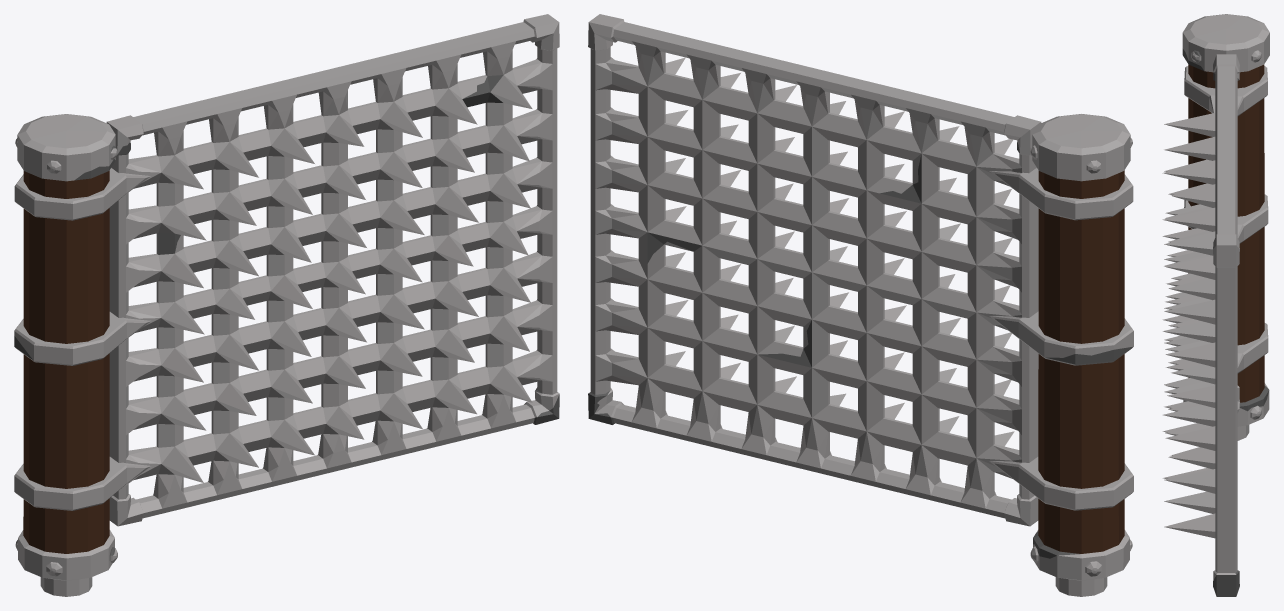
File: LGEMetalSpinningGate.fbx
The picture shows the model from 3 angles, left to right: view 1: azimuth 30°, elevation 25°; view 2: azimuth 150°, elevation 25°; view 3: azimuth 270°, elevation 25°; orthographic projection. The views are drawn at different scales.
Visible parts, largest first — view 1: LGEMetalSpinningGate; view 2: LGEMetalSpinningGate; view 3: LGEMetalSpinningGate.
Part boxes in pixels (x1,y1,x2,y2): LGEMetalSpinningGate: (14,14,559,596); LGEMetalSpinningGate: (588,14,1133,596); LGEMetalSpinningGate: (1162,14,1269,596).
Size of the model in its own units: 243 by 199 by 48.21.
